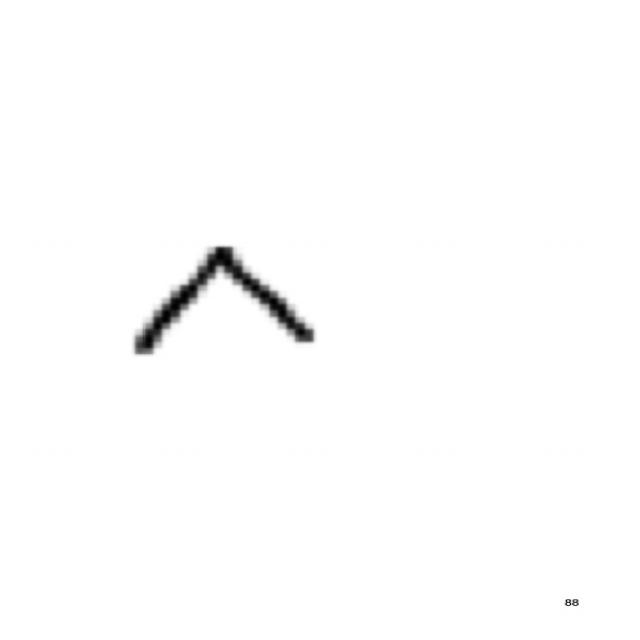8 -eight-: (108, 234, 328, 365)
